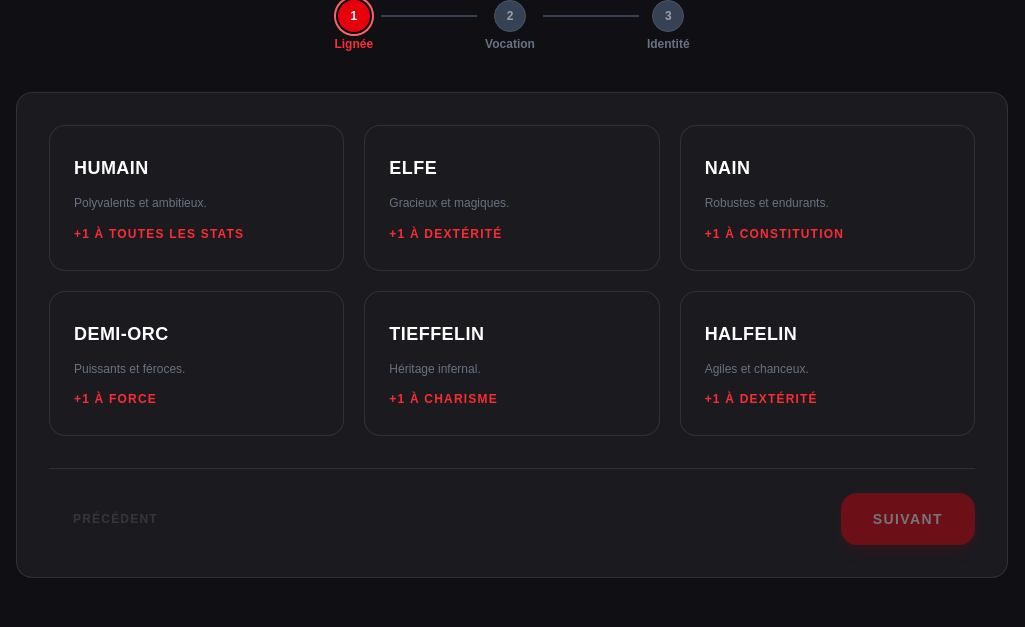
Test: CharacterStep › navigation vers étape 1 — Vocation › affiche toutes les classes après sélection d'une race
Click the text "Elfe": (413, 168) [389,158,437,178]
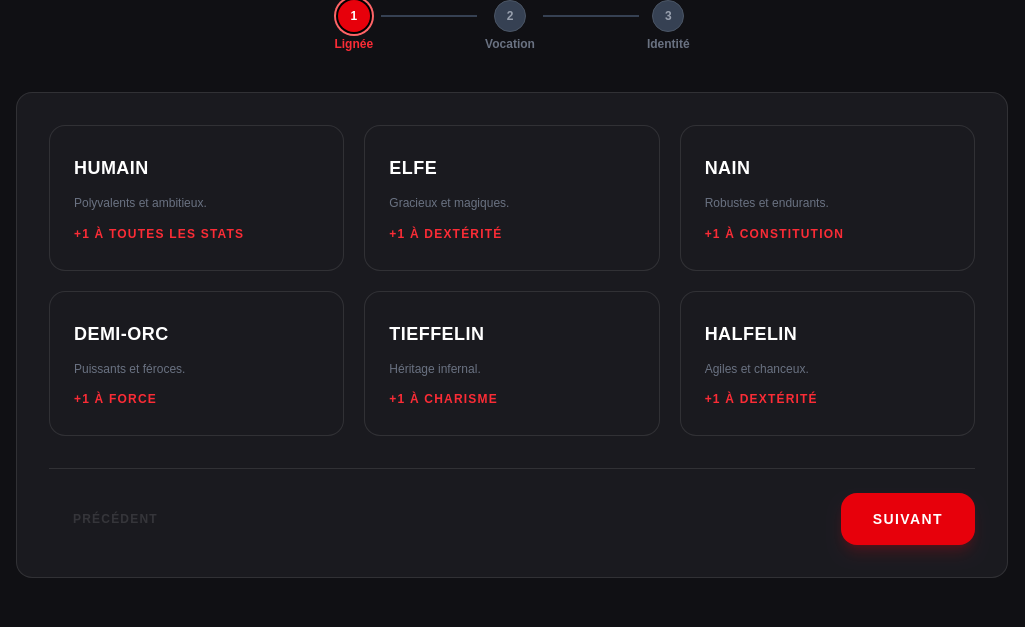
Click the button "Suivant": (908, 519) [841,493,975,545]
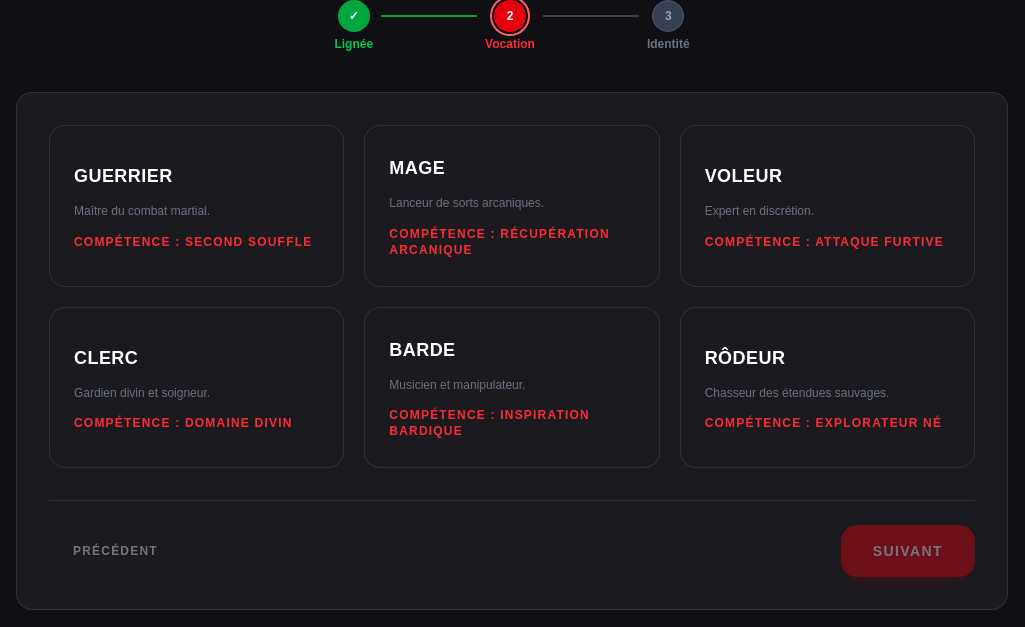
Result: the text "Guerrier" is shown at [74,166,173,186]
Result: the text "Mage" is shown at [389,158,445,178]
Result: the text "Voleur" is shown at [705,166,782,186]
